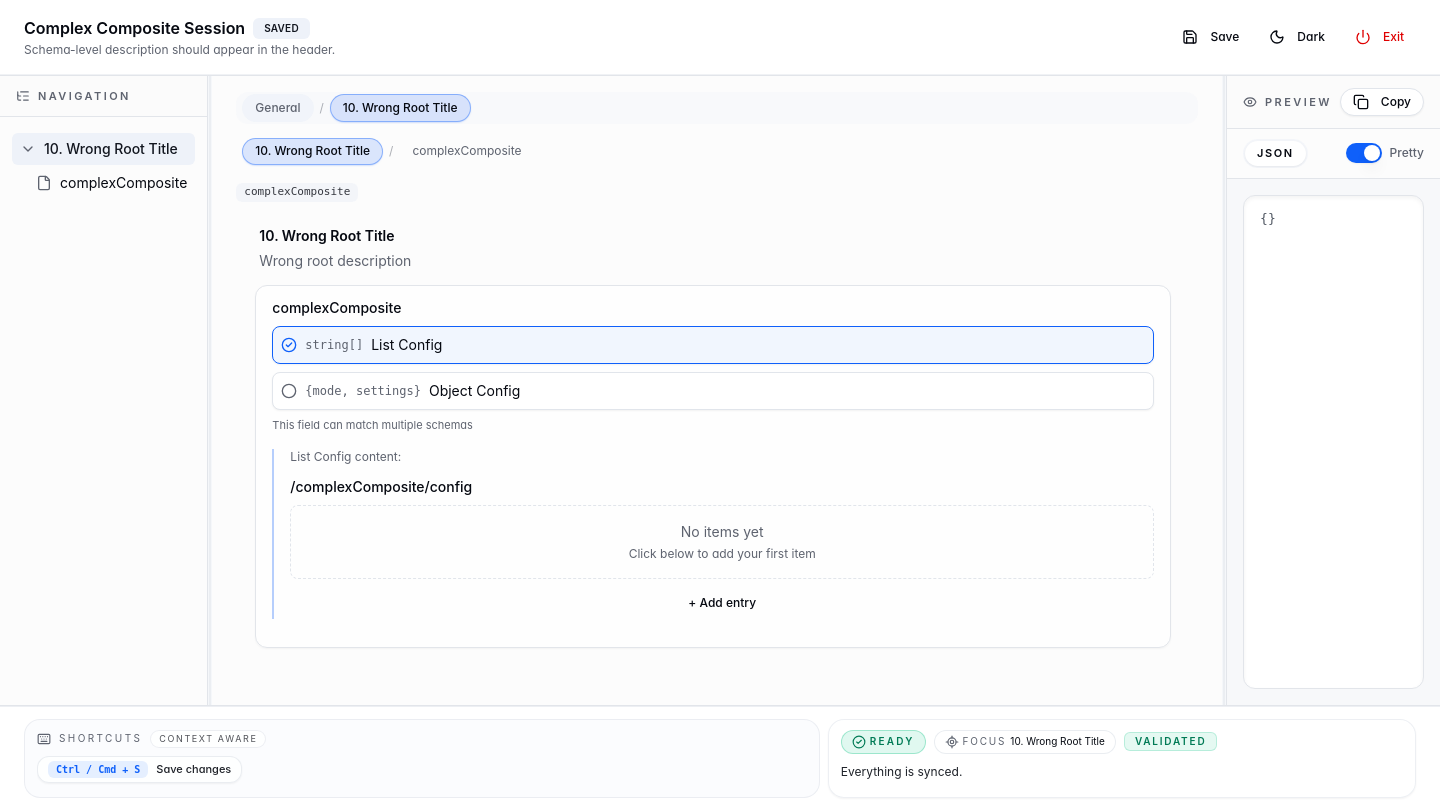
Scenario: App web interactions › keeps composite radio selection aligned with rendered content after switching variants
Expected: the text "List Config content:" is shown, [290,449,401,464]
Click the radio button labelled "{mode, settings} Object Config": (713, 391) [272,372,1154,410]
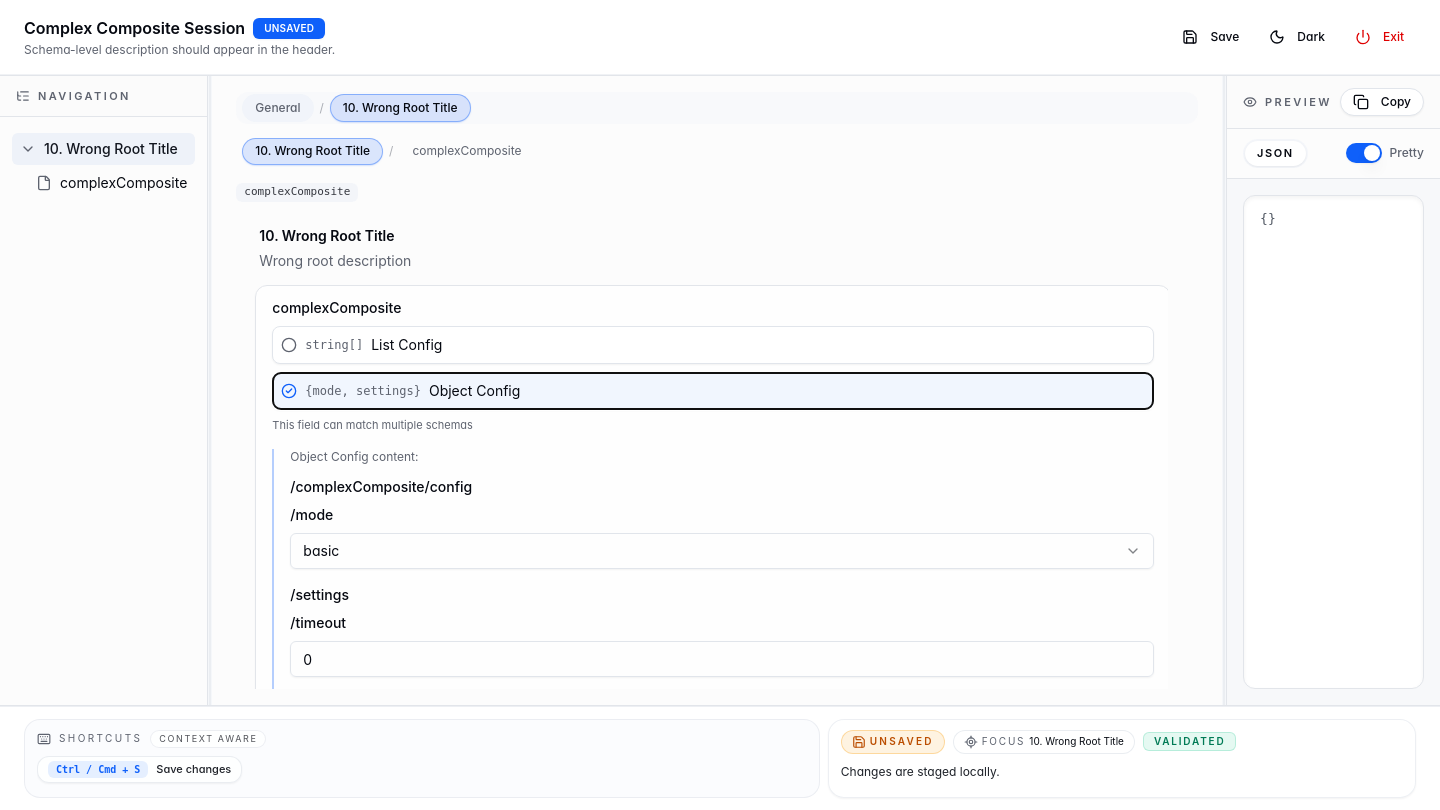
Result: the text "Object Config content:" is shown at [290,449,418,464]
Result: the text "List Config content:" is gone
Result: the text "/settings" is shown at [290,585,349,605]
